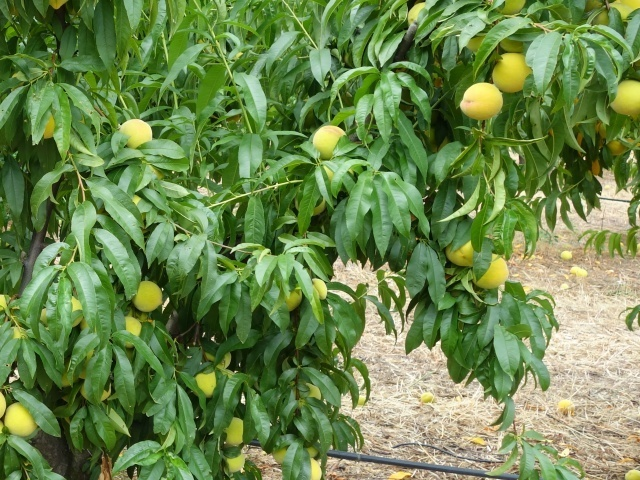peach: (459, 79, 508, 121), (491, 51, 534, 93), (114, 114, 159, 153), (312, 120, 351, 164), (473, 250, 513, 292), (3, 401, 44, 441), (442, 231, 482, 270), (610, 75, 639, 123), (132, 277, 167, 316), (116, 311, 148, 349), (217, 413, 249, 450), (492, 35, 531, 63), (278, 279, 308, 315), (190, 368, 221, 401), (221, 446, 248, 475), (404, 1, 431, 28)
